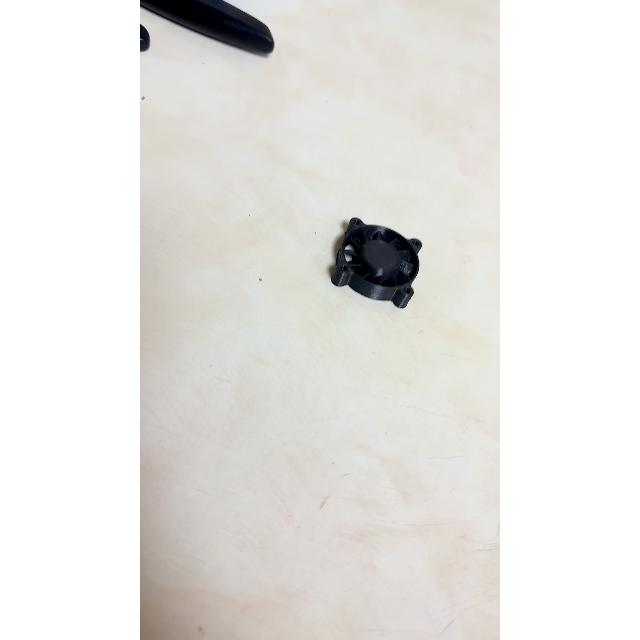Pieza_4: (310, 199, 432, 327)
